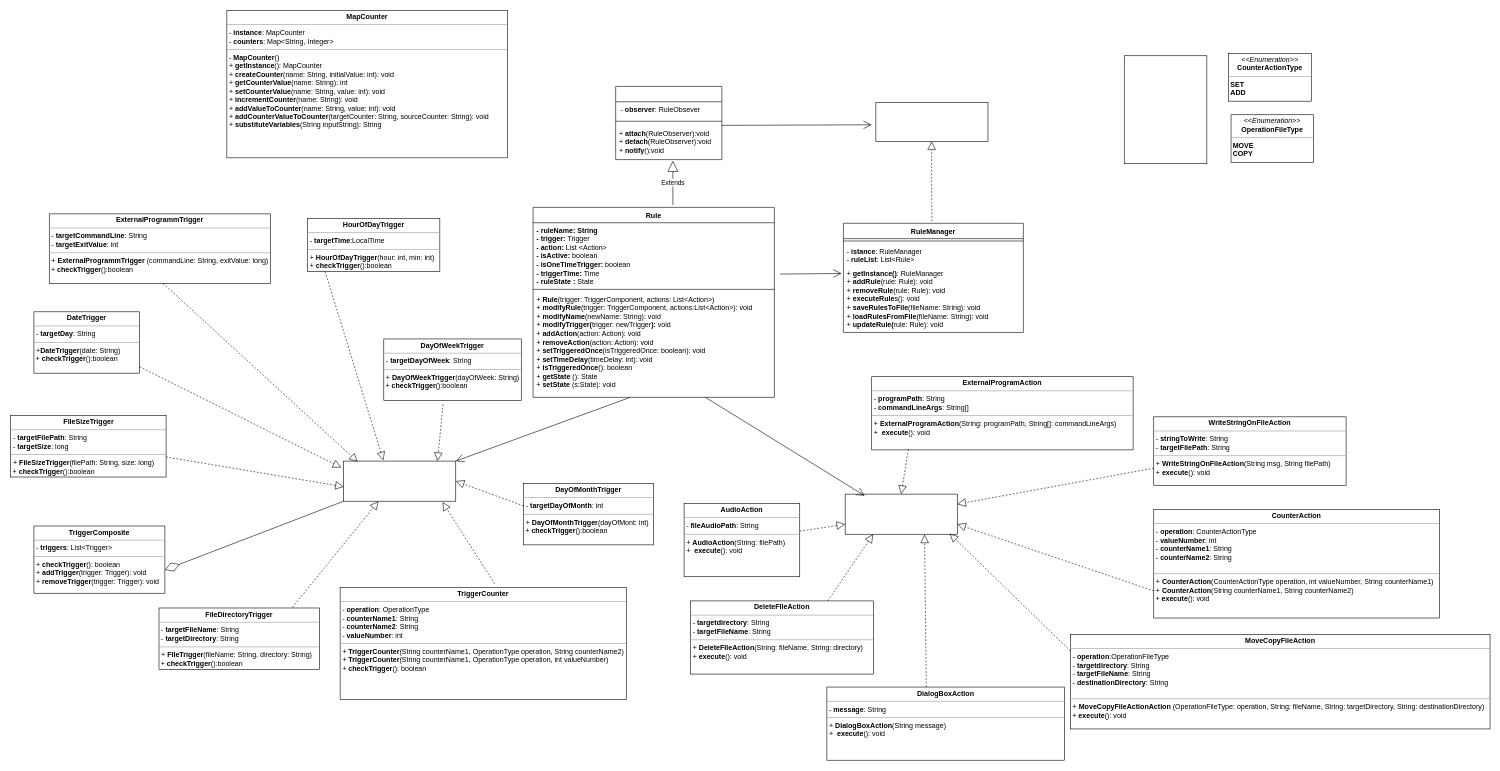
This 1500x771 diagram has some shape labels left out. The shapes that lost their labels are listed below. From the top down, each one's box as (x1, y1, x2, y2) in pixels, then its label:
(615, 86, 722, 160): RuleSubject
(875, 102, 988, 141): <<Interface>> RuleObserver + updateRule ():void
(1124, 55, 1207, 164): <<Enumeration>> OperationType EQUALTO LESSTHAN GREATERTHAN
(343, 460, 456, 501): <<Interface>> Trigger + checkTrigger ():boolean
(845, 494, 957, 534): <<Interface>> Action + executeAction (): Void
